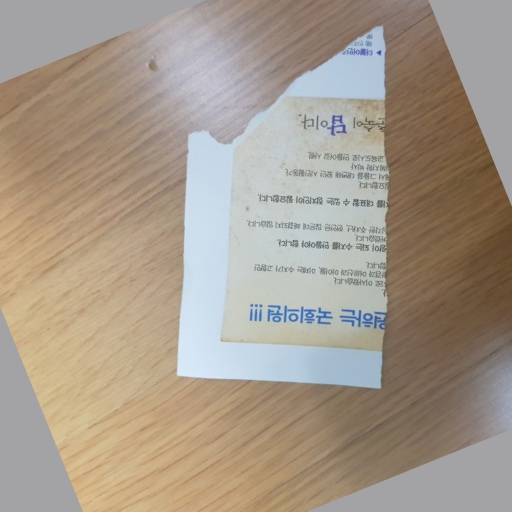Paper_2: (184, 113, 407, 420)
